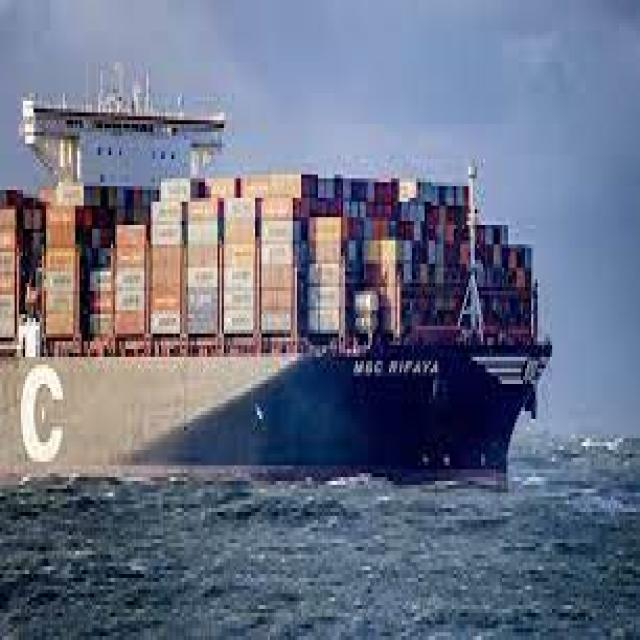cargoship: (0, 52, 548, 494)
